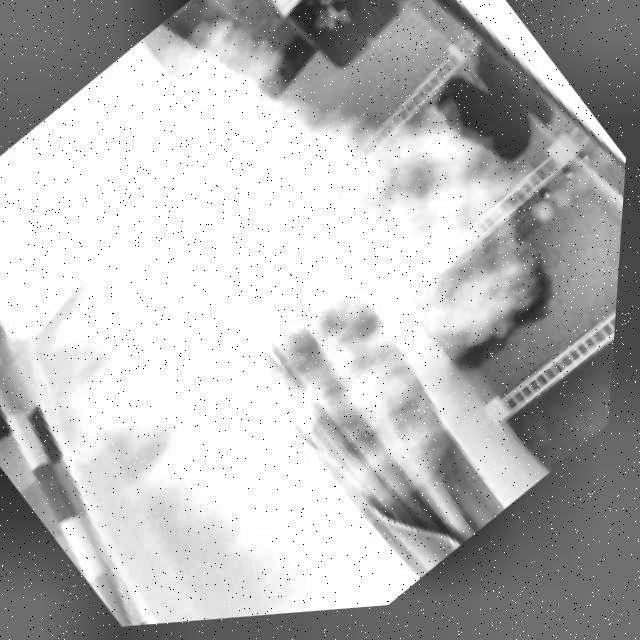Smoke: (0, 0, 624, 628)
